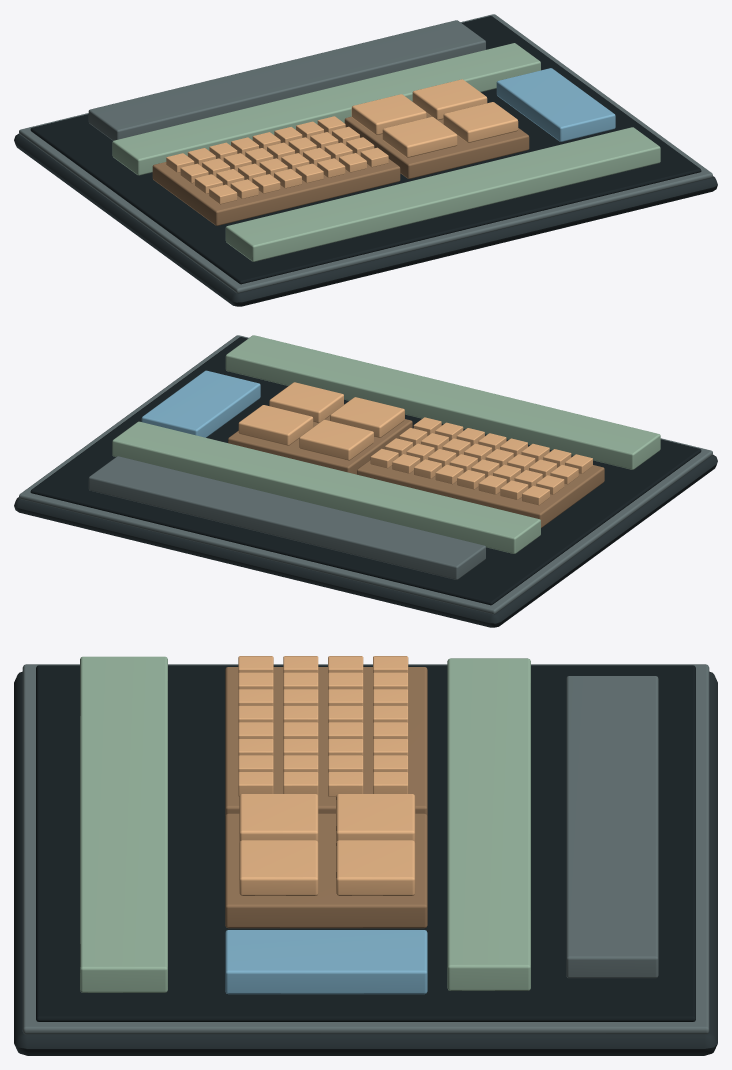
The model's file is gex-sm.glb.
3 renders of one model, top to bottom at view 1: azimuth 30°, elevation 25°; view 2: azimuth 150°, elevation 25°; view 3: azimuth 270°, elevation 25°, orthographic. The views are drawn at different scales.
Parts seen in each view (by area): view 1: GEX_SM_FLOOR, GEX_SHARED_L1, GEX_WARP_SCHEDULER, GEX_REGISTER_FILE, GEX_SM_CHASSIS, GEX_SM_RIM, GEX_EXECUTION_UNITS, GEX_LOAD_STORE, GEX_TENSOR_UNITS, GEX_MATRIX_RESOURCE_00, GEX_MATRIX_RESOURCE_01, GEX_MATRIX_RESOURCE_02 (+1 smaller); view 2: GEX_SM_FLOOR, GEX_SHARED_L1, GEX_REGISTER_FILE, GEX_WARP_SCHEDULER, GEX_SM_CHASSIS, GEX_SM_RIM, GEX_LOAD_STORE, GEX_EXECUTION_UNITS, GEX_TENSOR_UNITS, GEX_MATRIX_RESOURCE_02, GEX_MATRIX_RESOURCE_03, GEX_MATRIX_RESOURCE_00 (+1 smaller); view 3: GEX_SM_FLOOR, GEX_SHARED_L1, GEX_WARP_SCHEDULER, GEX_REGISTER_FILE, GEX_SM_CHASSIS, GEX_SM_RIM, GEX_LOAD_STORE, GEX_TENSOR_UNITS, GEX_EXECUTION_UNITS, GEX_MATRIX_RESOURCE_01, GEX_MATRIX_RESOURCE_03, GEX_MATRIX_RESOURCE_00 (+13 smaller).
Part boxes in pixels (box(x1,y1,x2,y2)): GEX_SM_FLOOR: box(30, 16, 701, 284); GEX_SHARED_L1: box(225, 127, 660, 261); GEX_WARP_SCHEDULER: box(88, 20, 485, 140); GEX_REGISTER_FILE: box(112, 43, 540, 175); GEX_SM_CHASSIS: box(14, 133, 717, 306); GEX_SM_RIM: box(19, 14, 712, 293); GEX_EXECUTION_UNITS: box(152, 159, 400, 225); GEX_LOAD_STORE: box(496, 68, 615, 141); GEX_TENSOR_UNITS: box(344, 113, 529, 178); GEX_MATRIX_RESOURCE_00: box(382, 117, 457, 157); GEX_MATRIX_RESOURCE_01: box(443, 102, 518, 142); GEX_MATRIX_RESOURCE_02: box(351, 94, 426, 134); GEX_SM_FLOOR: box(30, 337, 701, 605); GEX_SHARED_L1: box(225, 335, 660, 469); GEX_REGISTER_FILE: box(112, 421, 540, 553); GEX_WARP_SCHEDULER: box(88, 456, 485, 579); GEX_SM_CHASSIS: box(14, 454, 717, 627); GEX_SM_RIM: box(19, 335, 712, 614); GEX_LOAD_STORE: box(141, 370, 260, 437); GEX_EXECUTION_UNITS: box(357, 460, 604, 527); GEX_TENSOR_UNITS: box(228, 404, 412, 474); GEX_MATRIX_RESOURCE_02: box(299, 419, 373, 460); GEX_MATRIX_RESOURCE_03: box(238, 405, 313, 445); GEX_MATRIX_RESOURCE_00: box(330, 397, 404, 437); GEX_SM_FLOOR: box(36, 665, 695, 1021); GEX_SHARED_L1: box(80, 656, 167, 992); GEX_WARP_SCHEDULER: box(566, 676, 658, 978); GEX_REGISTER_FILE: box(447, 658, 530, 990); GEX_SM_CHASSIS: box(14, 671, 717, 1055); GEX_SM_RIM: box(22, 664, 709, 1034); GEX_LOAD_STORE: box(225, 930, 427, 994); GEX_TENSOR_UNITS: box(225, 813, 427, 928); GEX_EXECUTION_UNITS: box(225, 667, 427, 815); GEX_MATRIX_RESOURCE_01: box(239, 840, 318, 895); GEX_MATRIX_RESOURCE_03: box(336, 840, 415, 895); GEX_MATRIX_RESOURCE_00: box(239, 794, 318, 842).
Bounding box in the file's own units: 10 × 1.04 × 8.
